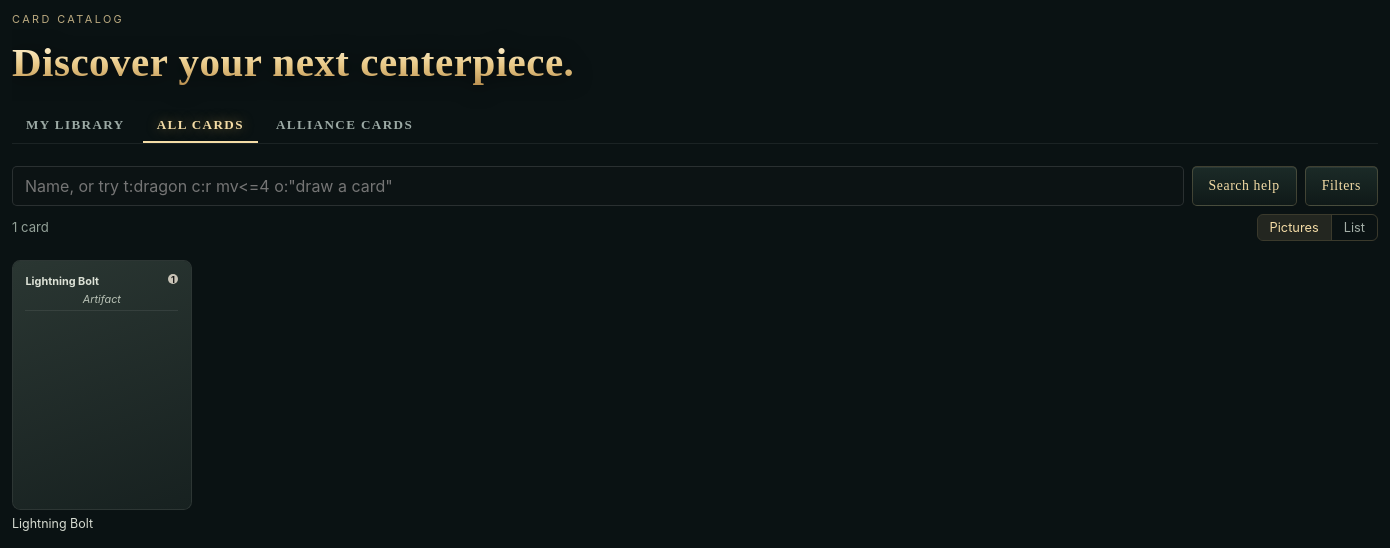
Scenario: the Cards page › says nothing of a library to an account that builds from the whole catalog
Check: the text "1 card" is shown, box [12,219,49,235]
Check: the button named "Lightning Bolt, Artifact" is shown, box [12,260,192,510]
Click the tab "My library": click(75, 125) [12,108,139,143]
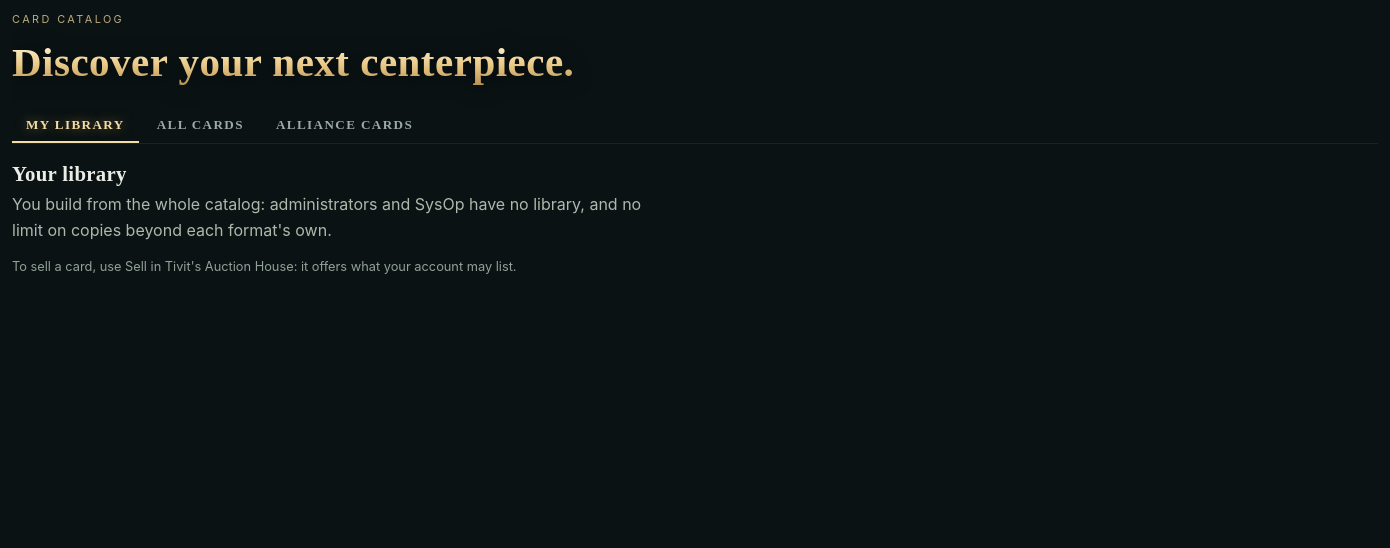
Check: the text "You build from the whole catalog" is shown, box [12,194,641,240]
